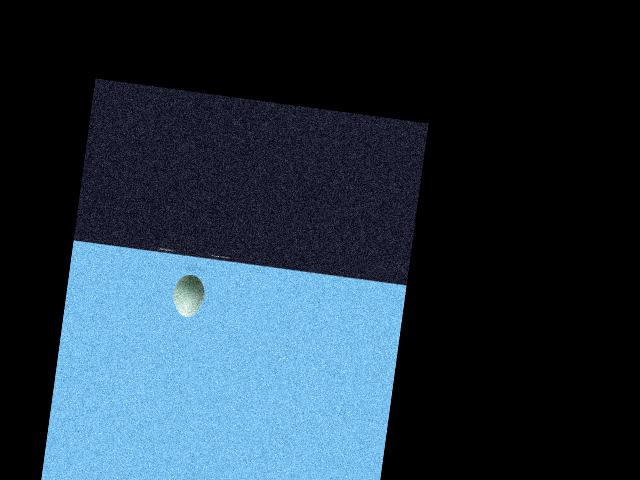egg: (171, 273, 207, 319)
